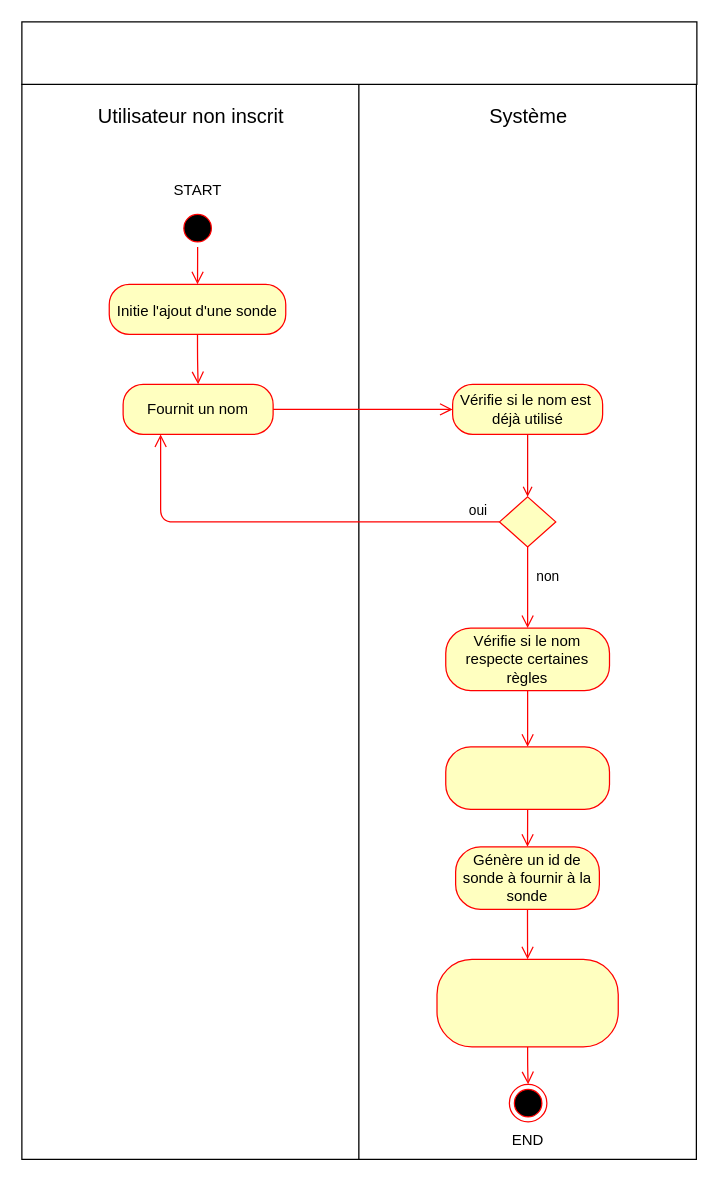
Some shapes in this 719 by 1181 pixel diagram are drawn without their labels. Each missing label, with the centre of its shape:
Ajout d'une sonde par un utilisateur inscrit: point 359,52
Ajoute la nouvelle sonde dans la table "sondes": point 527,777
Confirme la création de sonde et fournit l'id de la sonde à l'utilisateur: point 527,1002
